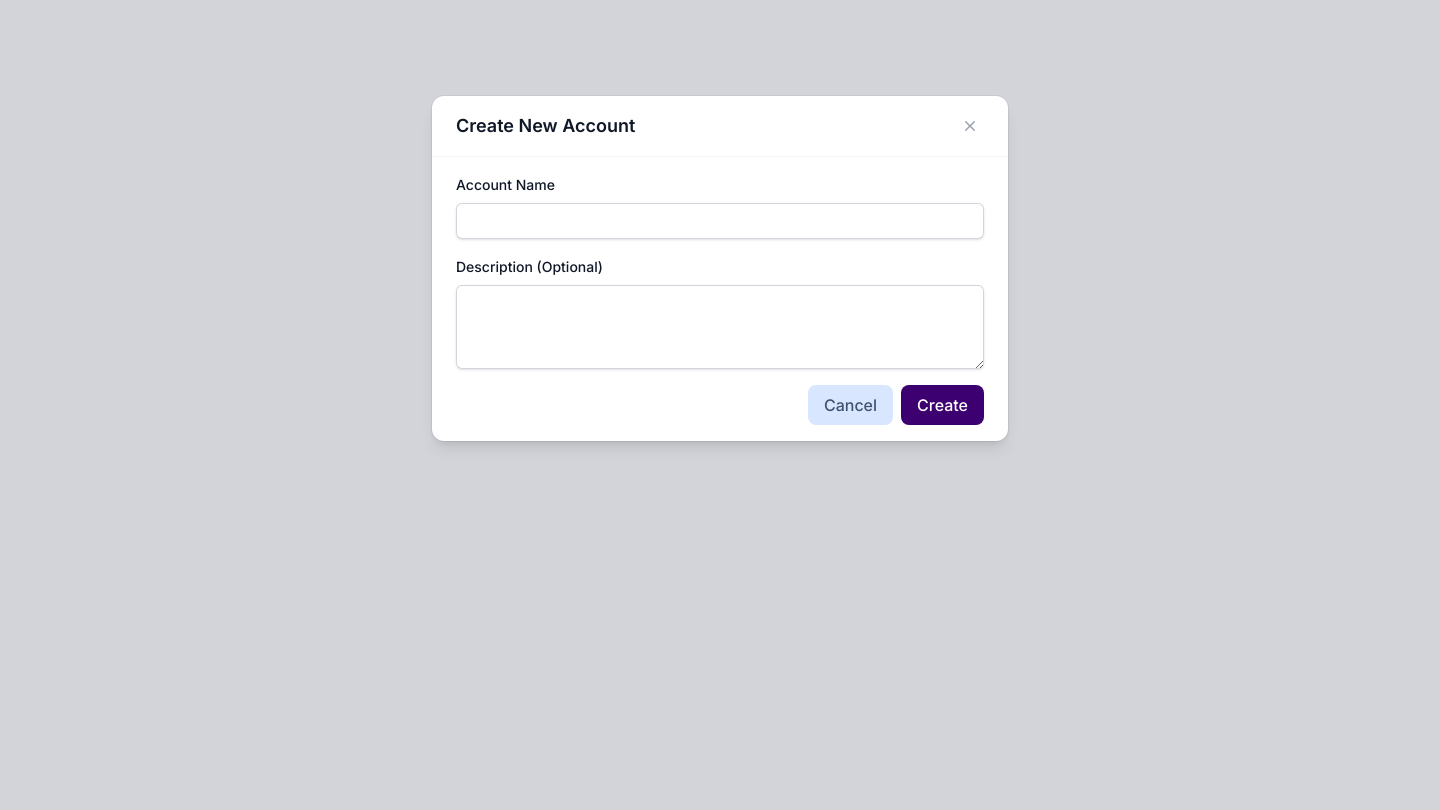
Scenario: CreateAccountModal › validates required name field
The width and height of the screenshot is (1440, 810).
Click the button "Create" at (942, 405), box [901,385,984,425]
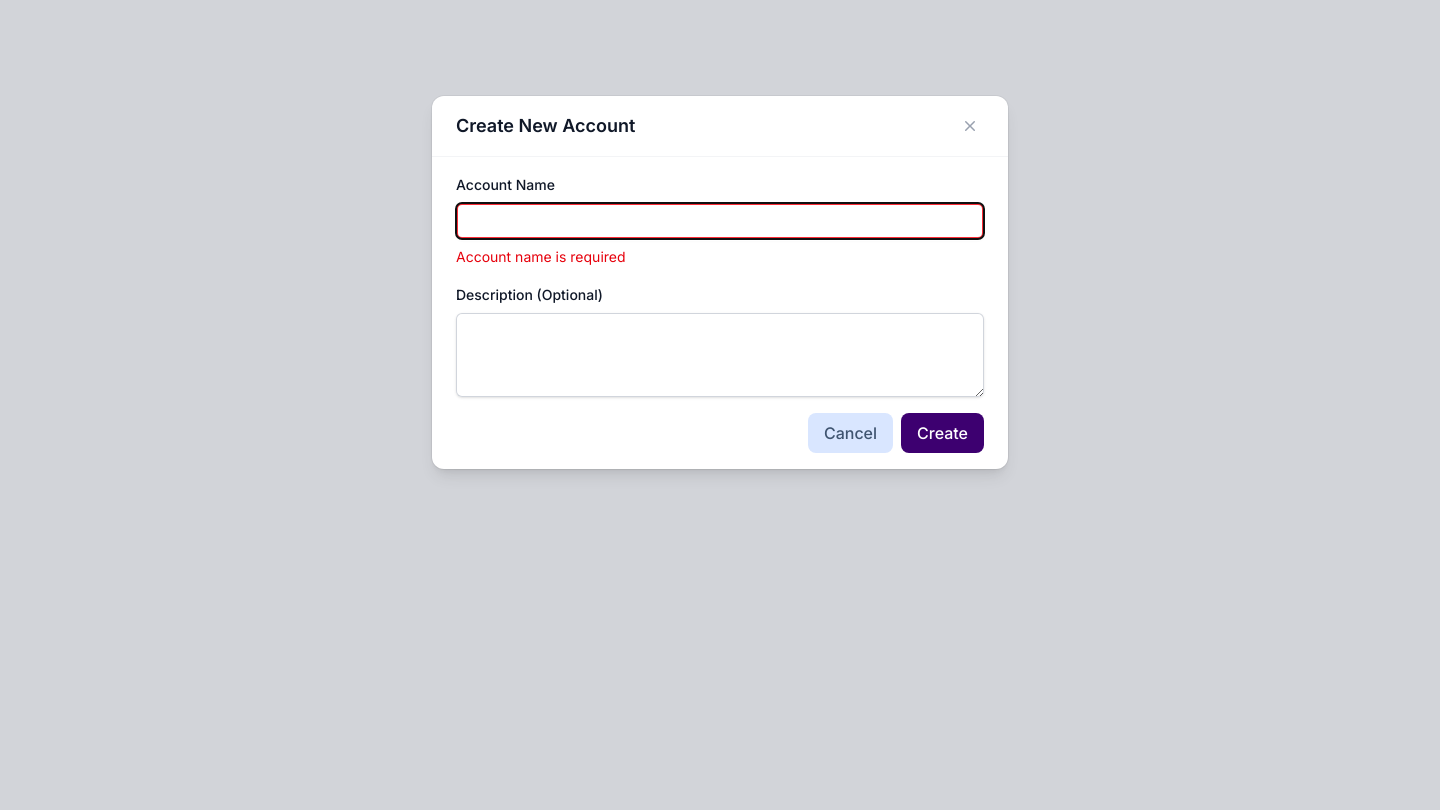
Expected: the text "Account name is required" is shown, [456,248,626,265]
